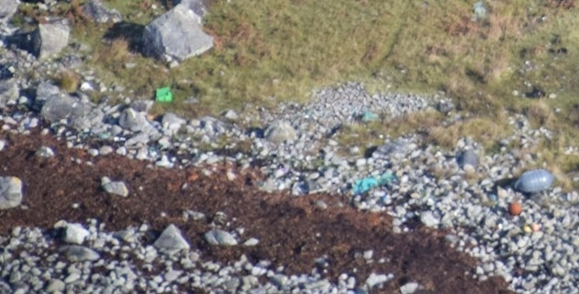net: (347, 167, 400, 199)
scattered_barrel: (498, 159, 570, 241)
white_in_green: (495, 146, 571, 214), (132, 65, 193, 118), (343, 96, 396, 135)
